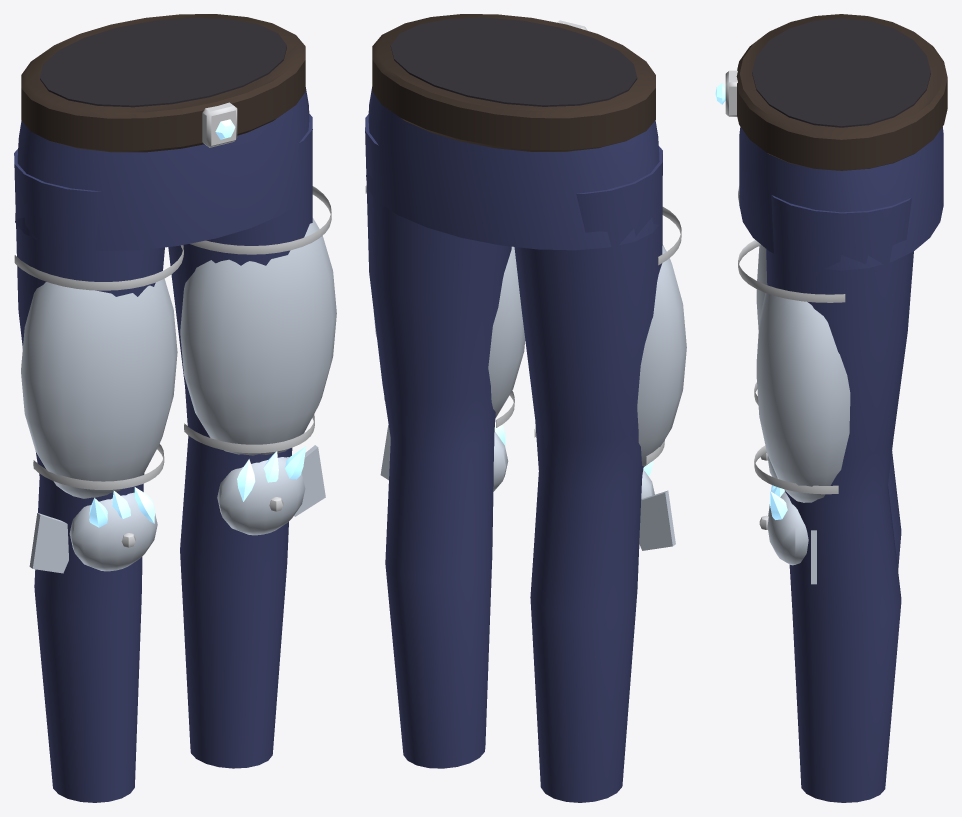
The model's file is u_rimewalkers.glb.
The picture shows the model from 3 angles, left to right: view 1: azimuth 30°, elevation 25°; view 2: azimuth 150°, elevation 25°; view 3: azimuth 270°, elevation 25°; orthographic projection. The views are drawn at different scales.
Visible parts, largest first — view 1: u_rimewalkers; view 2: u_rimewalkers; view 3: u_rimewalkers.
Boxes of the visible parts, <box> form: u_rimewalkers: <box>14,14,336,802</box>; u_rimewalkers: <box>365,14,686,802</box>; u_rimewalkers: <box>715,14,947,802</box>.
Size of the model in its own units: 0.3184 by 0.7066 by 0.2182.
